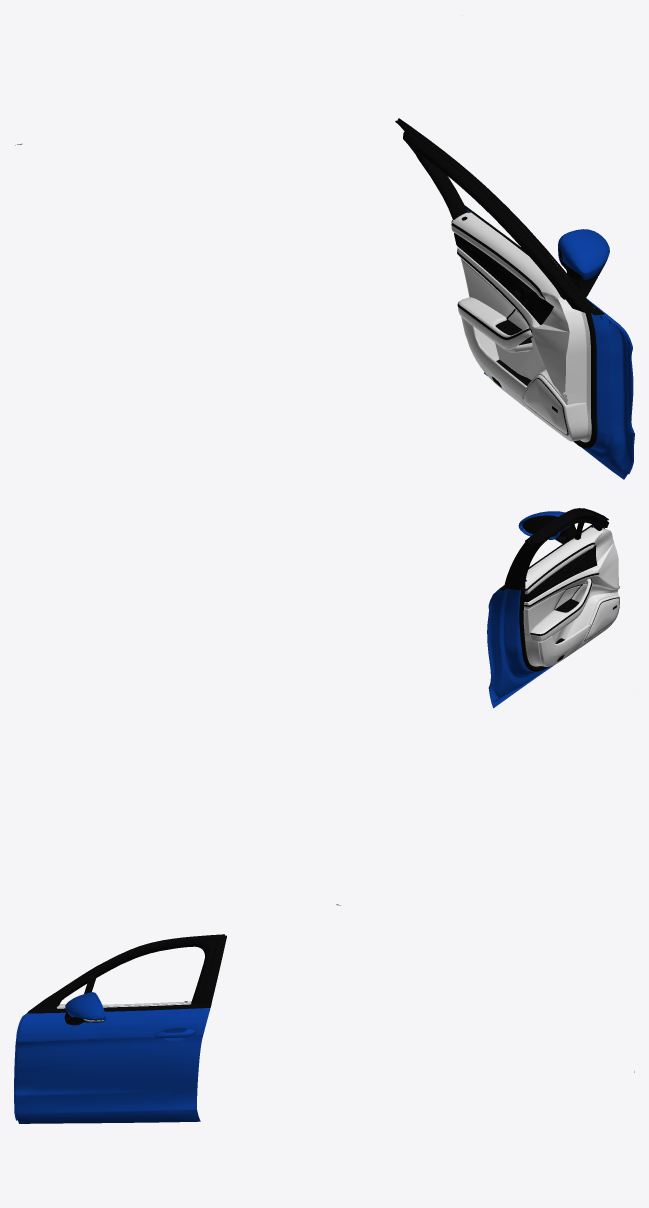
Rendered from Stanga_Fata_Albastru.fbx.
3 views of the same model, one above another, from view 1: azimuth 30°, elevation 25°; view 2: azimuth 150°, elevation 25°; view 3: azimuth 270°, elevation 25° (orthographic). The views are drawn at different scales.
Parts seen in each view (by area): view 1: door_LF; view 2: door_LF; view 3: door_LF.
Boxes of the visible parts, <box> form: door_LF: <box>15,118,634,479</box>; door_LF: <box>336,508,619,905</box>; door_LF: <box>14,934,634,1123</box>.
Bounding box in the file's own units: 3532 × 1977 × 6627.
